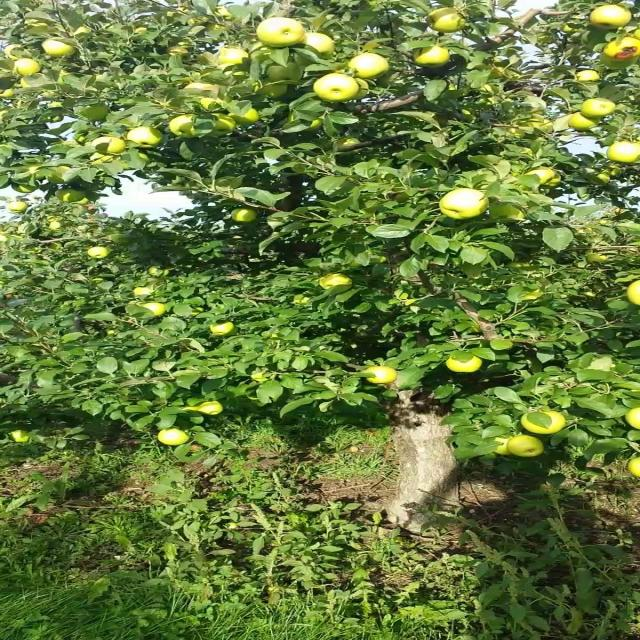apple: (440, 188, 491, 220), (312, 72, 357, 104), (255, 20, 306, 48), (348, 52, 391, 80), (589, 4, 633, 31), (426, 8, 471, 34), (525, 412, 569, 436), (604, 36, 639, 60), (412, 48, 453, 68), (511, 436, 548, 458), (127, 128, 165, 149), (305, 32, 336, 57), (255, 80, 292, 100), (269, 64, 306, 83), (170, 116, 199, 140), (92, 136, 128, 155), (42, 40, 78, 59), (227, 108, 263, 127), (611, 140, 638, 165), (447, 356, 484, 374), (582, 100, 619, 118), (568, 112, 601, 132), (77, 104, 114, 121), (596, 56, 636, 71), (198, 96, 235, 112), (163, 428, 192, 448), (362, 368, 398, 384), (184, 400, 220, 416), (490, 204, 526, 219), (525, 168, 556, 184), (291, 116, 324, 131), (220, 48, 249, 65), (319, 276, 356, 289), (13, 60, 43, 76), (234, 208, 263, 224), (56, 188, 85, 204), (255, 44, 284, 60), (198, 400, 226, 416), (212, 116, 236, 134), (92, 152, 119, 167), (561, 20, 588, 35), (184, 84, 220, 95), (49, 168, 73, 184), (497, 52, 521, 68), (625, 280, 639, 306), (518, 288, 546, 301), (312, 16, 332, 34), (141, 304, 169, 316), (255, 368, 277, 383), (28, 24, 55, 36), (625, 408, 639, 431), (625, 456, 639, 479), (575, 72, 604, 83), (532, 116, 553, 131), (291, 292, 315, 305), (604, 164, 628, 177), (28, 164, 46, 181), (212, 324, 236, 336), (6, 200, 28, 213), (561, 24, 587, 35), (198, 52, 217, 67), (13, 184, 41, 194), (589, 252, 612, 264), (92, 248, 114, 260), (170, 44, 192, 56), (362, 40, 384, 52), (184, 400, 204, 413), (340, 140, 363, 151), (625, 288, 639, 306), (227, 68, 249, 79), (497, 440, 512, 456), (120, 120, 144, 130), (220, 8, 236, 23), (6, 48, 23, 62), (13, 432, 32, 444), (220, 8, 236, 22), (70, 28, 92, 38), (305, 120, 324, 131), (596, 172, 612, 185), (205, 24, 228, 33), (77, 132, 94, 144), (134, 288, 156, 297), (191, 16, 208, 27), (148, 268, 171, 276), (547, 176, 562, 188), (49, 220, 66, 230), (6, 88, 20, 100), (77, 132, 91, 144), (177, 4, 192, 15), (20, 76, 32, 89), (77, 28, 92, 37), (191, 308, 206, 316), (134, 28, 149, 35), (582, 292, 597, 299), (191, 444, 203, 452), (497, 4, 512, 8)
